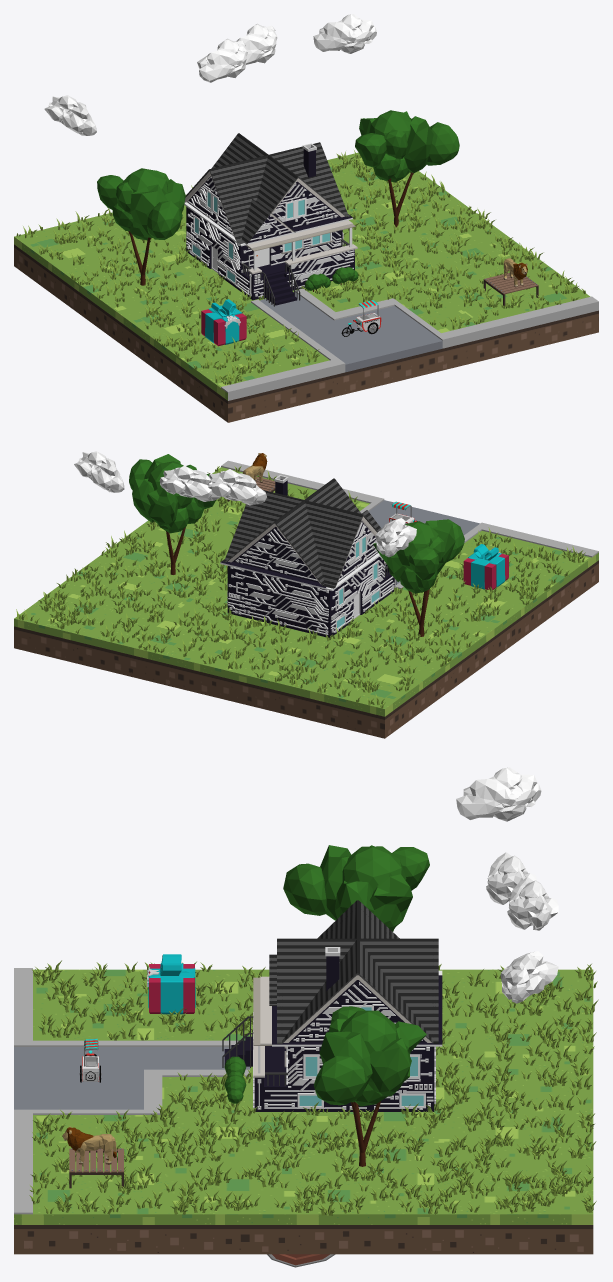
3 renders of one model, top to bottom at view 1: azimuth 30°, elevation 25°; view 2: azimuth 150°, elevation 25°; view 3: azimuth 270°, elevation 25°, orthographic. The views are drawn at different scales.
Parts seen in each view (by area): view 1: Cube.006, Cube.918, Circle.012_Grass_0.192, Cube.007, tree, tree.001, OBJRANDOM_GIANT_PRESENT, Cube.009, VEHICLES_SNOWBAL_BIKE; view 2: Cube.006, Cube.918, Circle.012_Grass_0.192, Cube.007, tree.001, tree, OBJRANDOM_GIANT_PRESENT, ANIMAL_LEON; view 3: Cube.006, Circle.012_Grass_0.192, Cube.918, tree, Cube.007, tree.001, OBJRANDOM_GIANT_PRESENT, Cube.009, ANIMAL_LEON, VEHICLES_SNOWBAL_BIKE.
Boxes of the visible parts, left/top/right/bottom form: Cube.006: left=14, top=152, right=598, bottom=422; Cube.918: left=184, top=133, right=357, bottom=306; Circle.012_Grass_0.192: left=16, top=150, right=585, bottom=384; Cube.007: left=44, top=14, right=376, bottom=135; tree: left=355, top=110, right=459, bottom=227; tree.001: left=97, top=168, right=185, bottom=285; OBJRANDOM_GIANT_PRESENT: left=201, top=299, right=246, bottom=346; Cube.009: left=483, top=273, right=538, bottom=305; VEHICLES_SNOWBAL_BIKE: left=341, top=300, right=381, bottom=336; Cube.006: left=14, top=460, right=598, bottom=738; Cube.918: left=220, top=475, right=396, bottom=637; Circle.012_Grass_0.192: left=16, top=466, right=585, bottom=708; Cube.007: left=74, top=451, right=416, bottom=557; tree.001: left=373, top=519, right=464, bottom=636; tree: left=129, top=454, right=215, bottom=574; OBJRANDOM_GIANT_PRESENT: left=463, top=544, right=508, bottom=590; ANIMAL_LEON: left=243, top=453, right=267, bottom=482; Cube.006: left=14, top=968, right=593, bottom=1254; Circle.012_Grass_0.192: left=29, top=960, right=598, bottom=1215; Cube.918: left=222, top=900, right=442, bottom=1111; tree: left=313, top=1006, right=426, bottom=1166; Cube.007: left=456, top=767, right=558, bottom=1003; tree.001: left=283, top=845, right=429, bottom=931; OBJRANDOM_GIANT_PRESENT: left=147, top=954, right=195, bottom=1014; Cube.009: left=69, top=1148, right=123, bottom=1188; ANIMAL_LEON: left=62, top=1126, right=116, bottom=1164; VEHICLES_SNOWBAL_BIKE: left=79, top=1038, right=101, bottom=1082.
Bounding box in the file's own units: 4071 × 2892 × 4040.
Materials: 41 (3 with a texture image).
